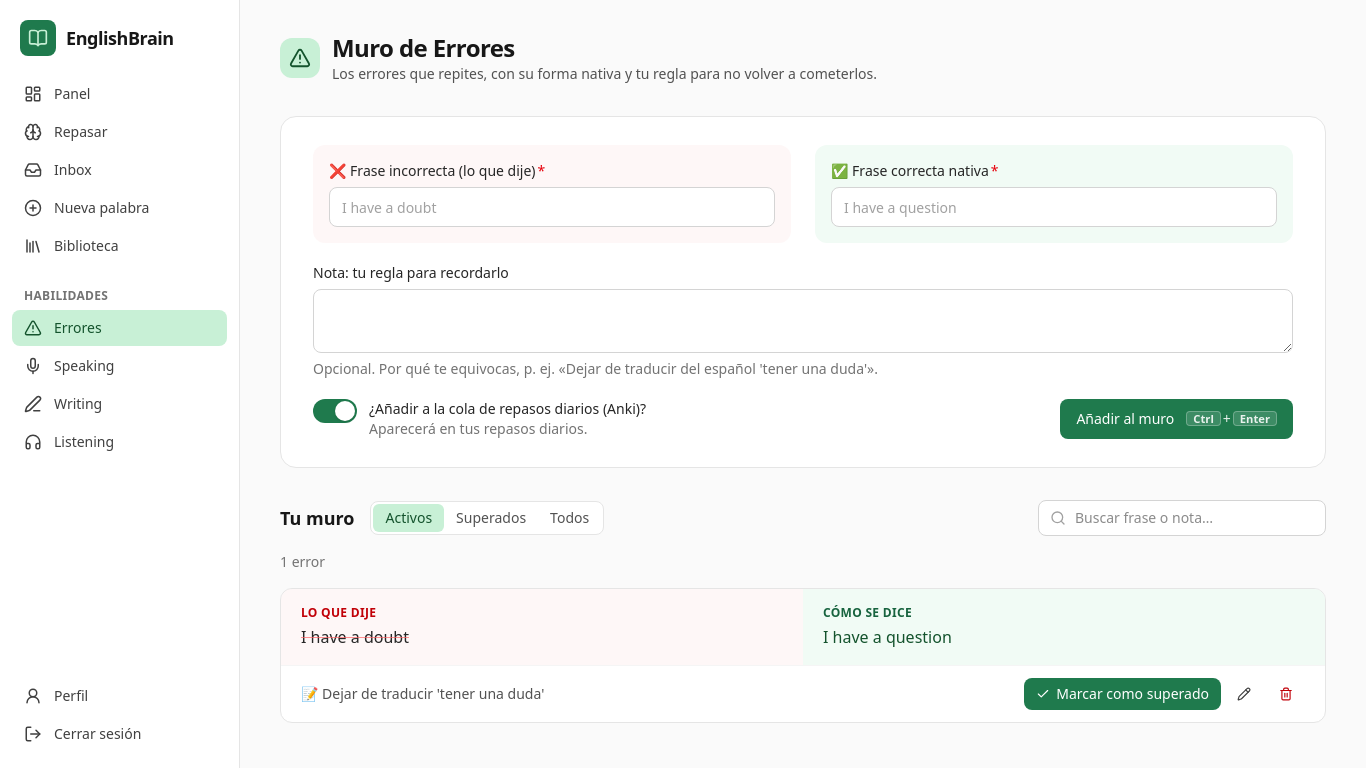
it: 12.1 · Muro de Errores: listado y filtros › el filtro Superados muestra los superados con su fecha y la etiqueta de archivo
This screenshot has width=1366, height=768.
Click the button "Superados". click: [491, 518]
box: [444,504,538,532]
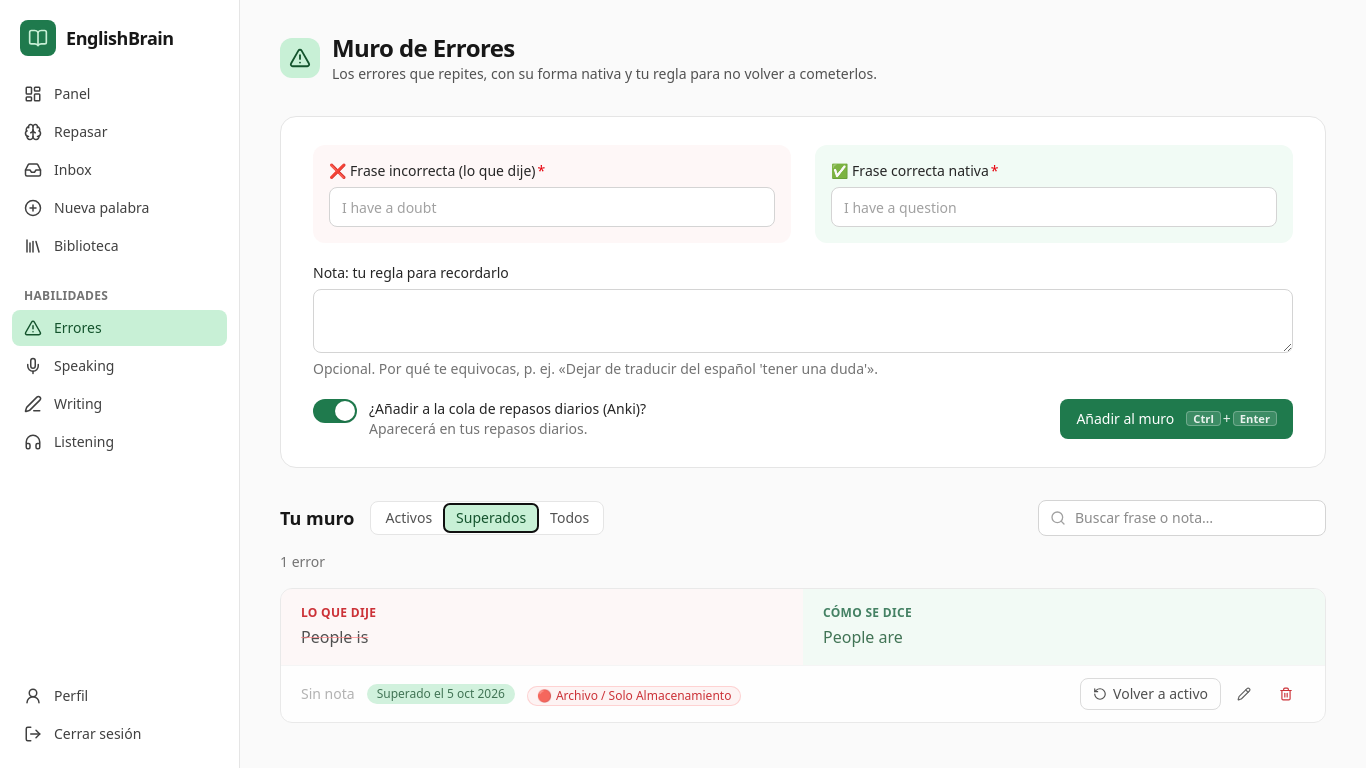
Expected: the text "Superado el 5 oct 2026" is shown, [367,684,515,704]
Expected: the text "🔴 Archivo / Solo Almacenamiento" is shown, [527,686,741,706]
